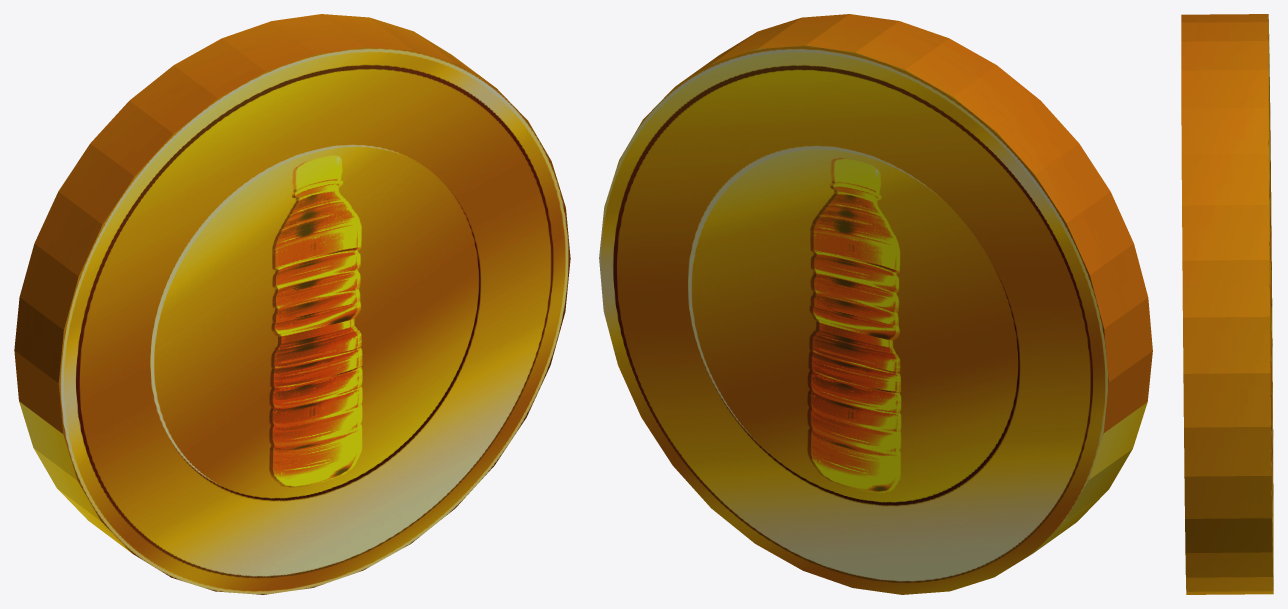
The model's file is CoinFBX.FBX.
The picture shows the model from 3 angles, left to right: view 1: azimuth 30°, elevation 25°; view 2: azimuth 150°, elevation 25°; view 3: azimuth 270°, elevation 25°; orthographic projection.
Parts seen in each view (by area): view 1: Cylinder; view 2: Cylinder; view 3: Cylinder.
Boxes of the visible parts, box(x1,y1,x2,y2) form: Cylinder: box(14, 14, 570, 594); Cylinder: box(599, 14, 1152, 594); Cylinder: box(1181, 14, 1273, 594).
Size of the model in its own units: 138 by 138 by 22.
